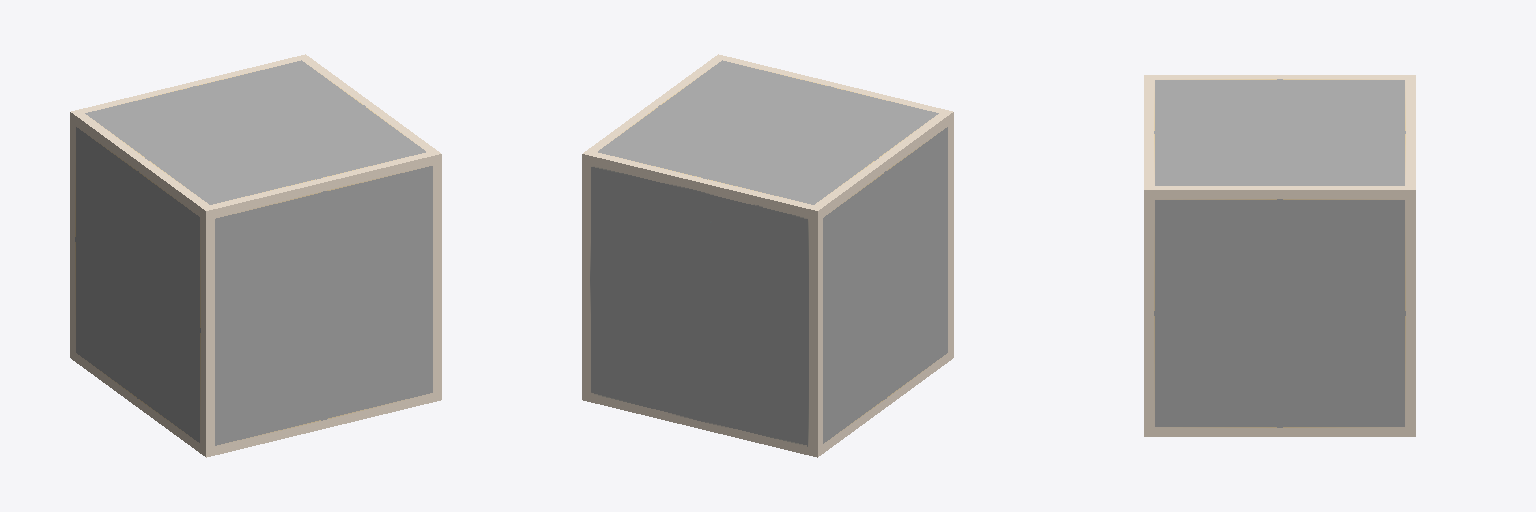
3 views of the same model, side by side, from view 1: azimuth 30°, elevation 25°; view 2: azimuth 150°, elevation 25°; view 3: azimuth 270°, elevation 25° (orthographic).
Parts seen in each view (by area): view 1: Cube; view 2: Cube; view 3: Cube.
Part boxes in pixels (left/top/right/bottom): Cube: left=70, top=54, right=441, bottom=457; Cube: left=582, top=54, right=953, bottom=457; Cube: left=1144, top=75, right=1415, bottom=436.
Bounding box in the file's own units: 2 × 2 × 2.
Materials: 1 (1 with a texture image).